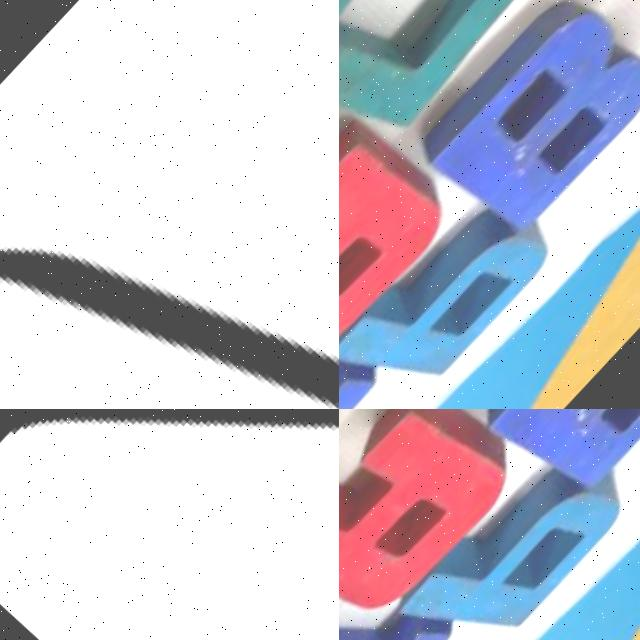A: (0, 409, 339, 640), (339, 409, 546, 640), (339, 115, 471, 386)
B: (410, 0, 640, 265), (471, 409, 640, 531)
D: (339, 0, 572, 177)
J: (0, 16, 339, 409)
L: (339, 409, 426, 588)
P: (339, 178, 570, 409), (405, 445, 640, 640)
